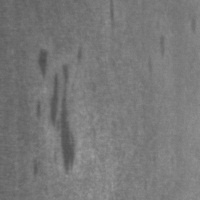inclusion: (45, 58, 80, 181), (138, 32, 171, 78), (29, 45, 52, 85), (103, 1, 121, 38)
